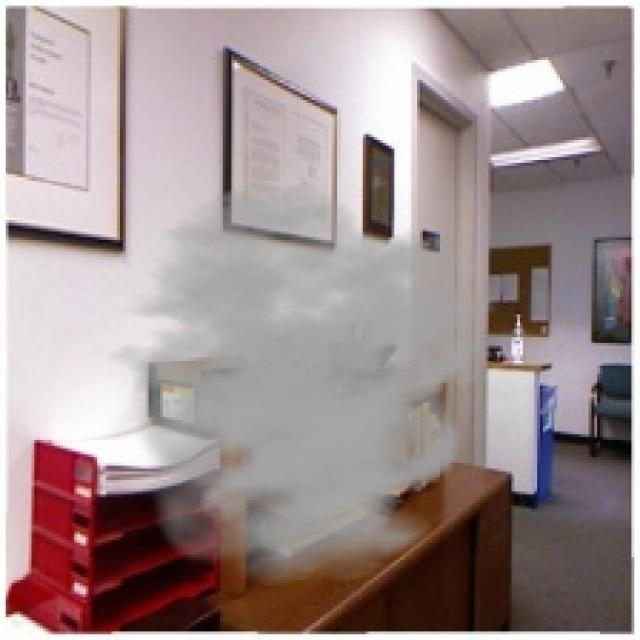smoke: (86, 183, 497, 586)
